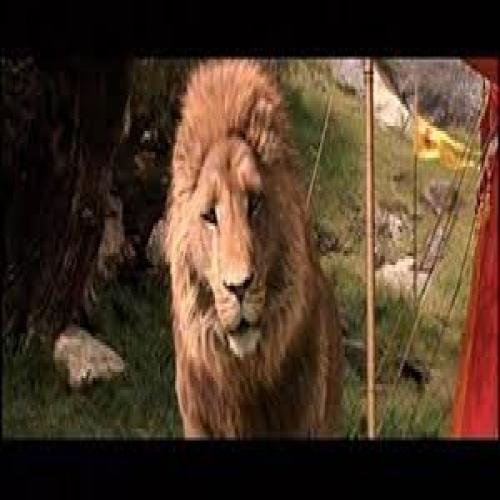lion-endangered: (168, 68, 344, 442)
